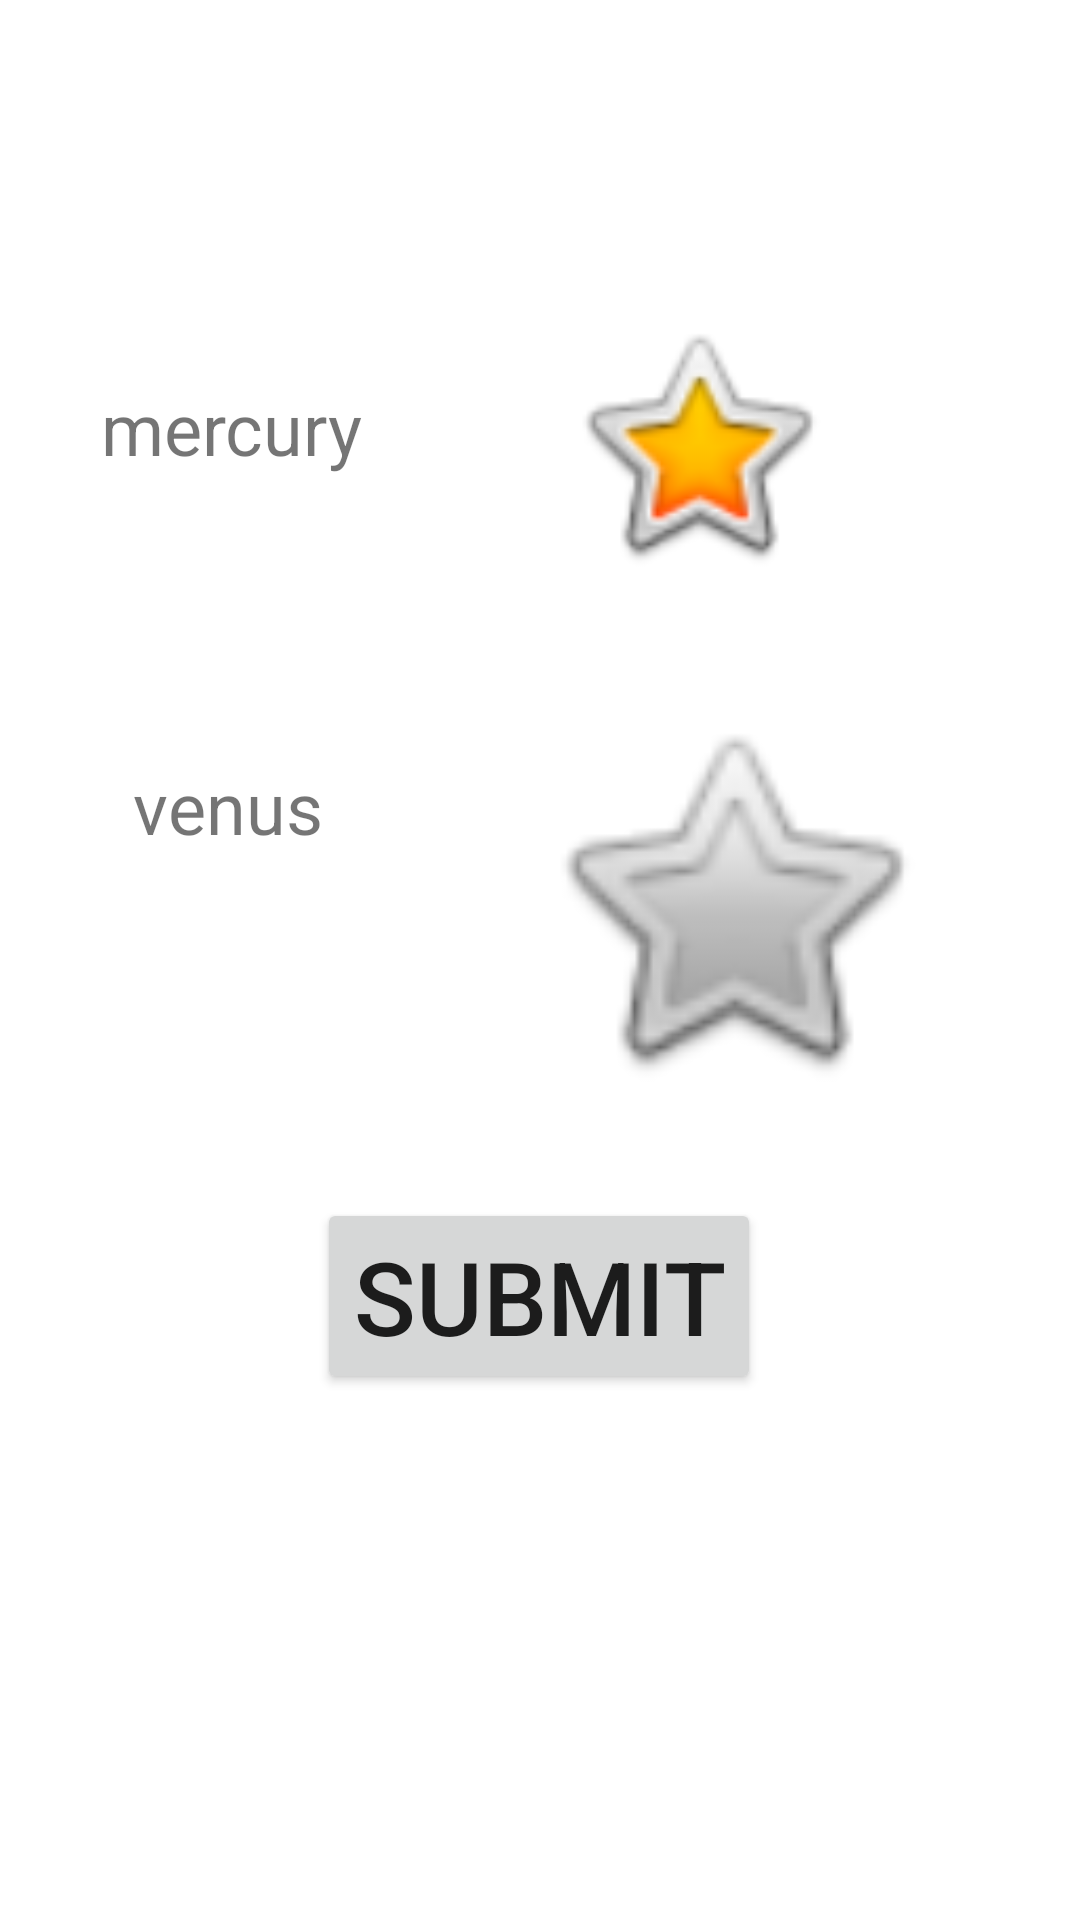

Where icons sit on this 1080*1920 app screen, as [x1=x1, y1=y1, x2=x2, y2=y2]:
star off: [x1=567, y1=739, x2=904, y2=1066]
star on: [x1=587, y1=337, x2=813, y2=557]
